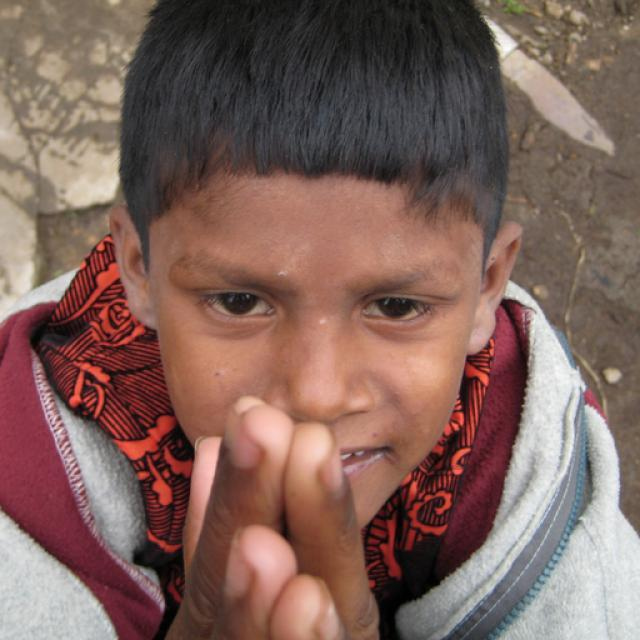sad: (150, 152, 476, 576)
